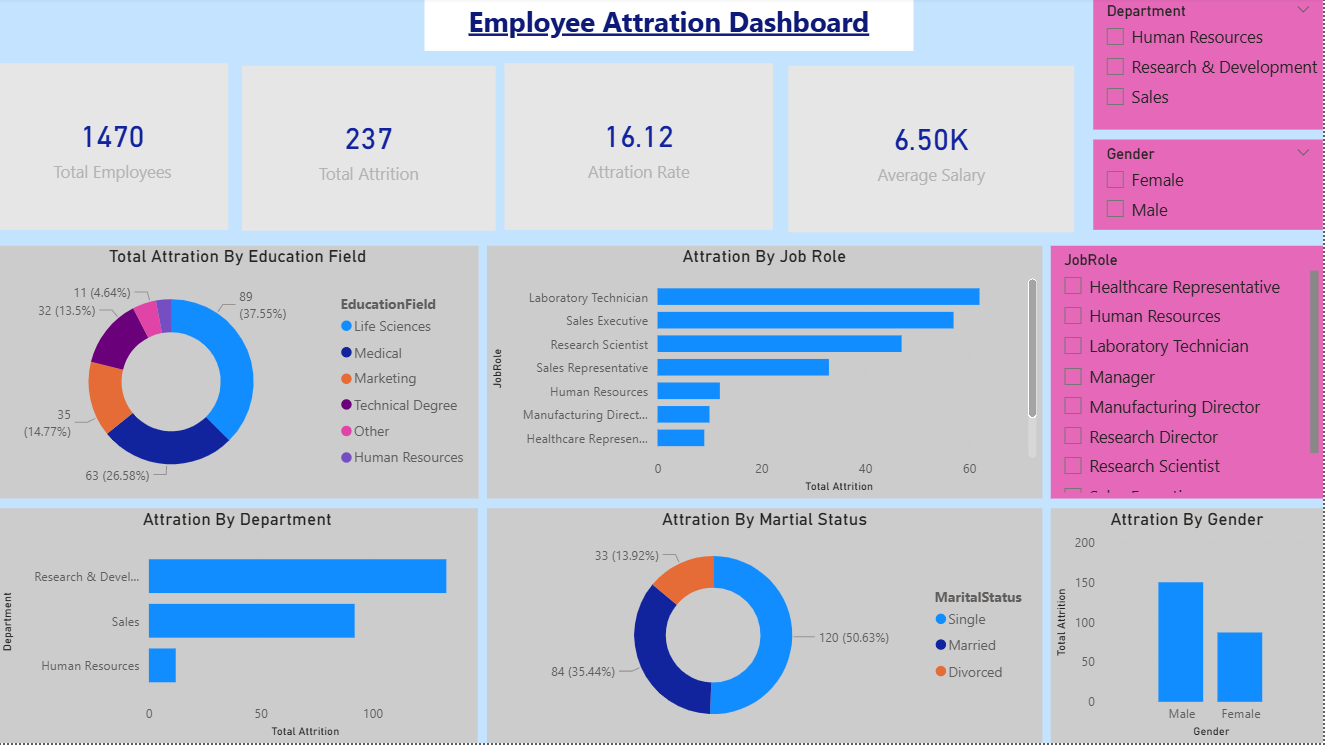

This screenshot's page, from the dashboard's own definition file:
{"tool":"powerbi","page":{"name":"Page 1","canvas":[1280,720],"ordinal":0},"visuals":[{"type":"card","fields":{"Values":["HR Data Set.Total Employees"]},"box":[0,63.9,223.2,160.5],"z":0},{"type":"card","fields":{"Values":["HR Data Set.Average Salary"]},"box":[763.7,66.4,276.3,160.5],"z":1},{"type":"card","fields":{"Values":["HR Data Set.Attration Rate"]},"box":[489.8,63.9,259.4,160.5],"z":2},{"type":"textbox","box":[412.6,0,471.7,51.9],"z":9},{"type":"card","fields":{"Values":["HR Data Set.Total Attrition"]},"box":[236.5,66.4,244.9,159.3],"z":10},{"type":"donutChart","title":"Total Attration By Education Field","fields":{"Y":["HR Data Set.Total Attrition"],"Category":["HR Data Set.EducationField"]},"box":[0,240.1,464.5,243.7],"z":11},{"type":"columnChart","title":"Attration By Gender","fields":{"Y":["HR Data Set.Total Attrition"],"Category":["HR Data Set.Gender"]},"box":[1017,493.4,263,226.8],"z":12},{"type":"barChart","title":"Attration By Job Role","fields":{"Category":["HR Data Set.JobRole"],"Y":["HR Data Set.Total Attrition"]},"box":[472.9,240.1,535.7,243.7],"z":13},{"type":"donutChart","title":"Attration By Martial Status","fields":{"Y":["HR Data Set.Total Attrition"],"Category":["HR Data Set.MaritalStatus"]},"box":[473,494,536,226],"z":15},{"type":"slicer","fields":{"Values":["HR Data Set.JobRole"]},"box":[1017,240.1,263,243.7],"z":16},{"type":"slicer","fields":{"Values":["HR Data Set.Department"]},"box":[1058,0,222,127.9],"z":17},{"type":"slicer","fields":{"Values":["HR Data Set.Gender"]},"box":[1058,137.5,222,86.9],"z":18},{"type":"barChart","title":"Attration By Department","fields":{"Category":["HR Data Set.Department"],"Y":["HR Data Set.Total Attrition"]},"box":[0,494,464,226],"z":19}]}

Visuals, with their boxes in screenshot pixels (x1, y1, x2, y2), scaled from the page's 1280x720 canvas onto the 1325x745 screenshot:
card - HR Data Set.Total Employees: 0/66/231/232
card - HR Data Set.Average Salary: 791/69/1077/235
card - HR Data Set.Attration Rate: 507/66/776/232
textbox: 427/0/915/54
card - HR Data Set.Total Attrition: 245/69/498/234
"Total Attration By Education Field" donutChart: 0/248/481/501
"Attration By Gender" columnChart: 1053/511/1324/744
"Attration By Job Role" barChart: 490/248/1044/501
"Attration By Martial Status" donutChart: 490/511/1044/744
slicer - HR Data Set.JobRole: 1053/248/1324/501
slicer - HR Data Set.Department: 1095/0/1324/132
slicer - HR Data Set.Gender: 1095/142/1324/232
"Attration By Department" barChart: 0/511/480/744
